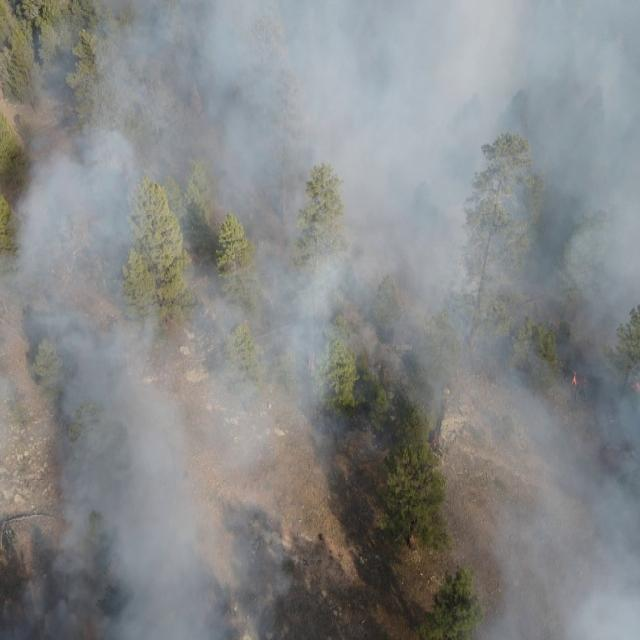fire: (430, 430, 446, 450), (306, 350, 318, 374), (568, 372, 580, 388), (629, 382, 640, 398)
smoke: (0, 0, 640, 640)
